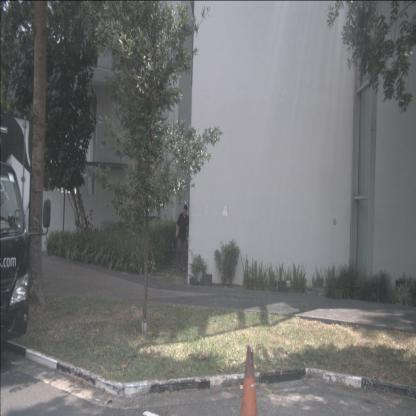human-pedestrian-adult: (176, 204, 190, 272)
movable_object-trafficcone: (240, 344, 258, 415)
vehicle-truck: (0, 113, 31, 355)
